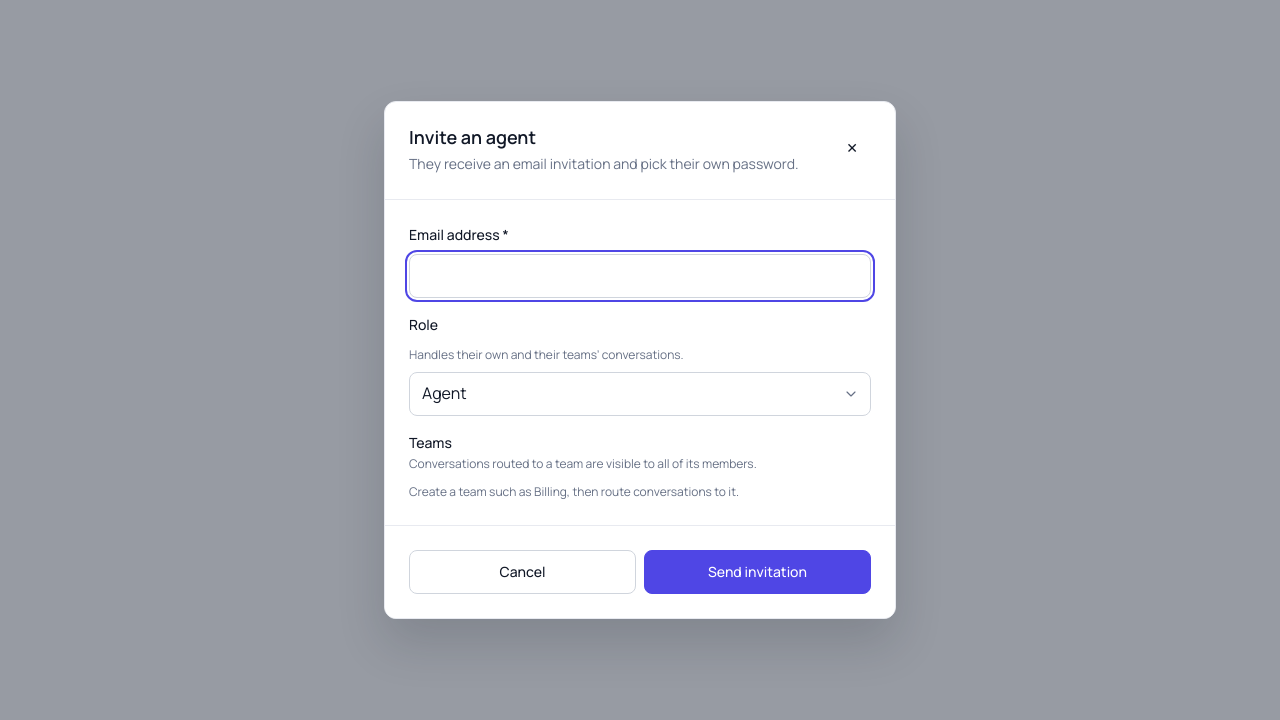
Test: InviteAgentDialog › shows the API’s own refusal, which is the copy that states the numbers
The image size is (1280, 720).
Type "newcomer@northwind.example" into the field labelled "Email address *" at (640, 276), box [409,254,871,298]
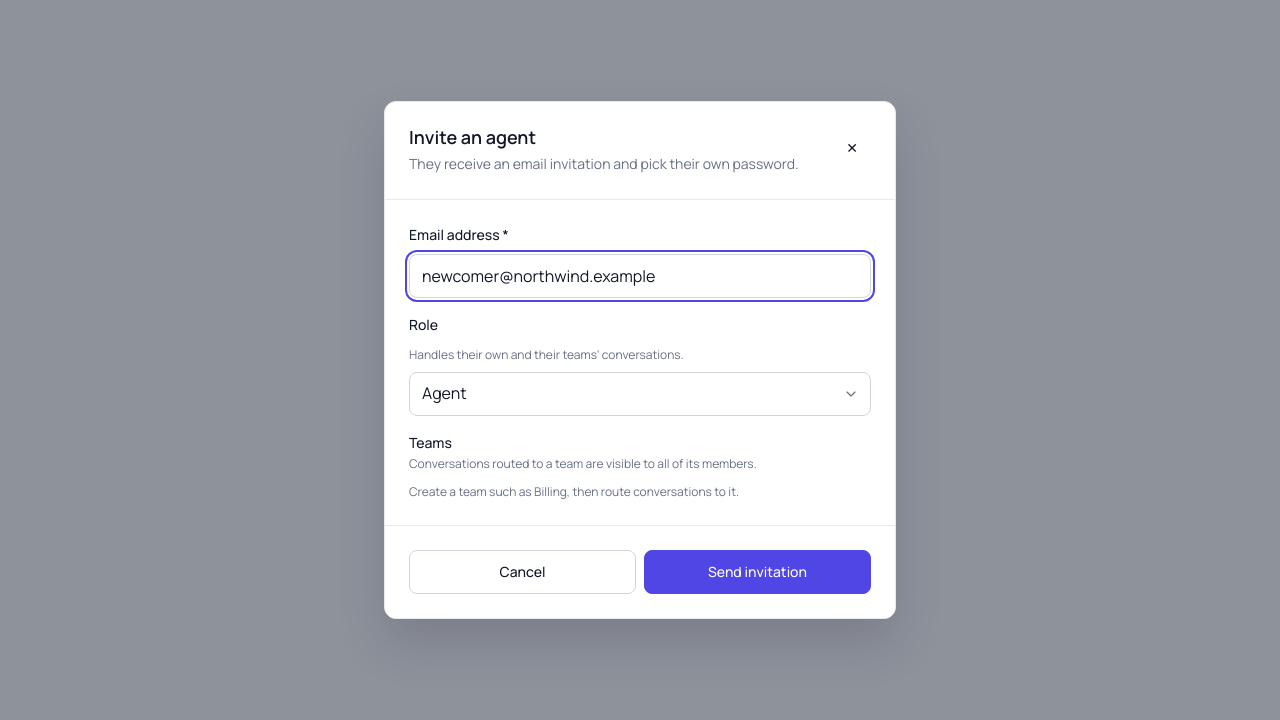
Click the button "Send invitation" at (758, 572), box [644,550,871,594]
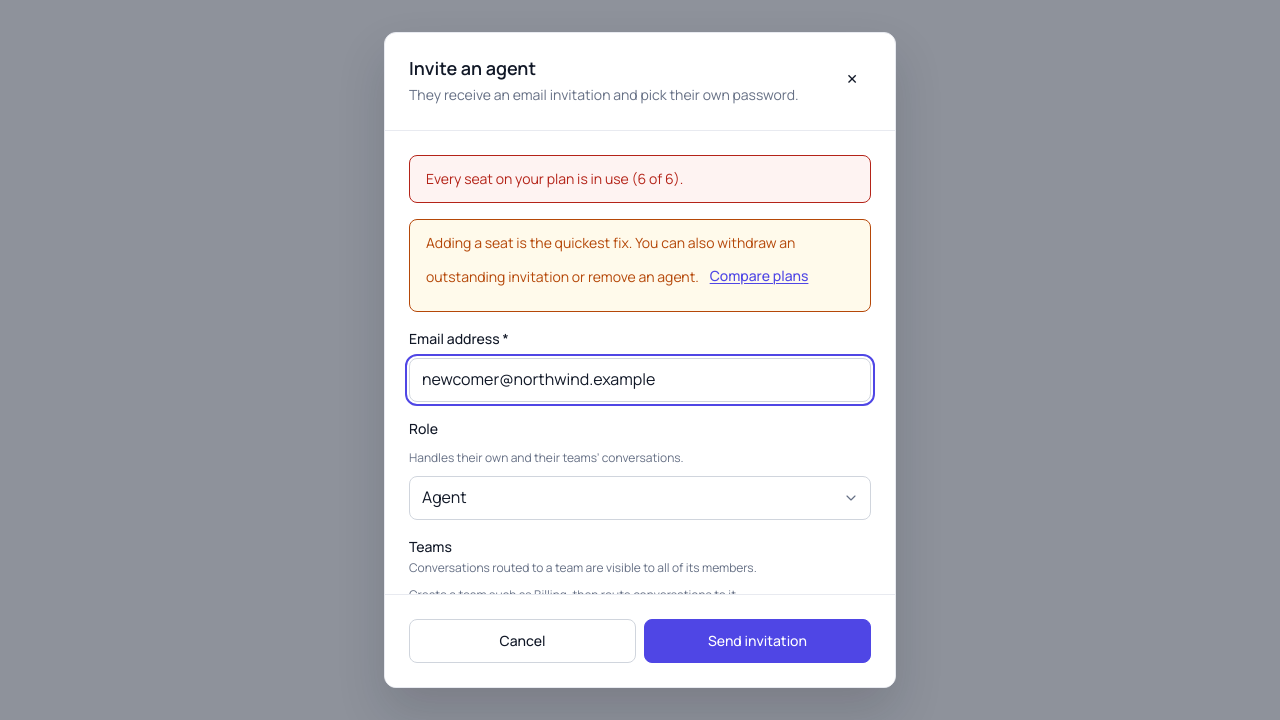
Now the text "Every seat on your plan is in use (6 of 6)." is shown, box [426,169,683,188]
